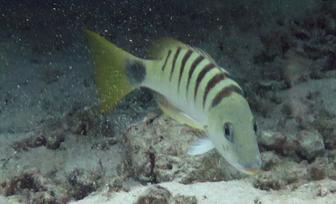Lutjanidae -Snappers-: (81, 21, 269, 182)
